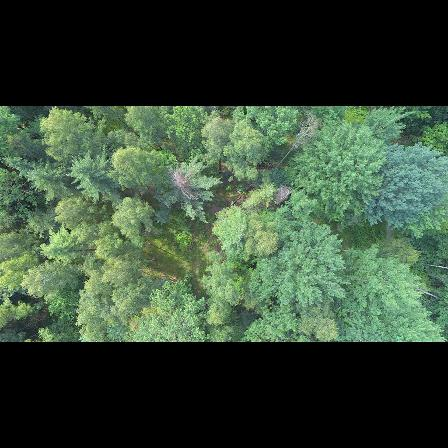Dead: (270, 116, 317, 175), (166, 159, 200, 198), (270, 186, 295, 207)
